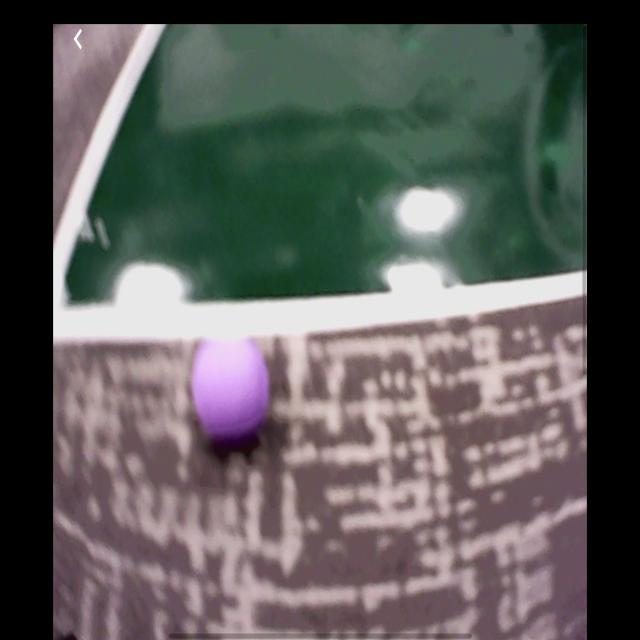ball: (190, 336, 272, 444)
